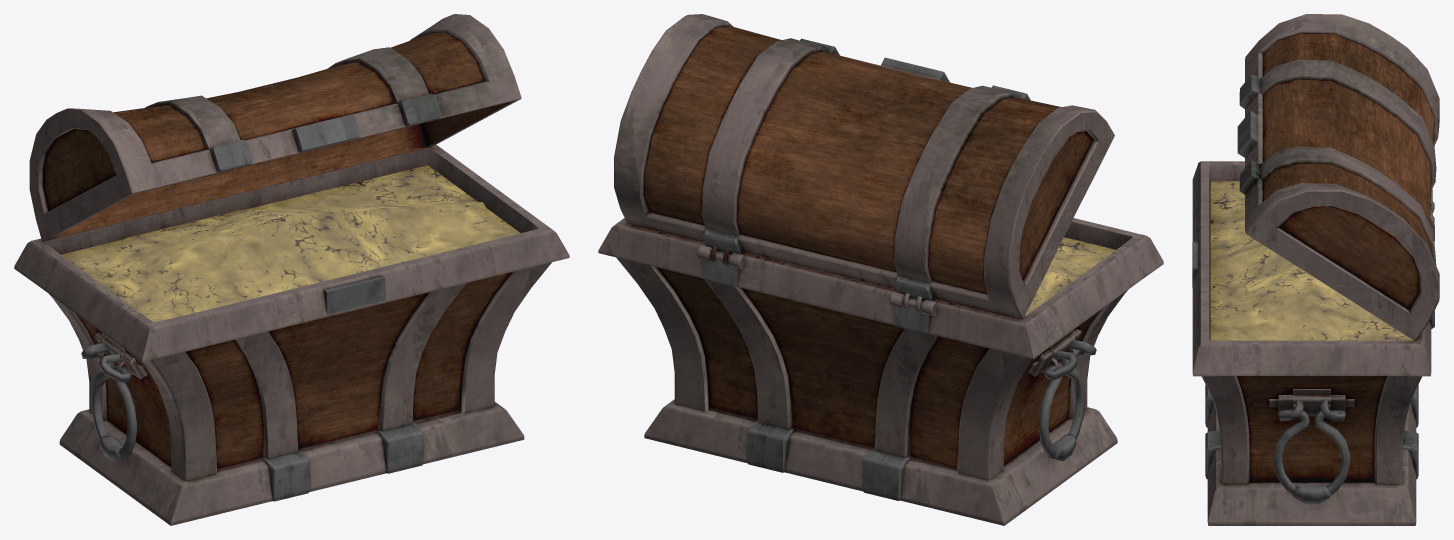
File: treasure_chest.glb
The picture shows the model from 3 angles, left to right: view 1: azimuth 30°, elevation 25°; view 2: azimuth 150°, elevation 25°; view 3: azimuth 270°, elevation 25°; orthographic projection. The views are drawn at different scales.
Visible parts, largest first — view 1: Chest_Gold1; view 2: Chest_Gold1; view 3: Chest_Gold1.
Boxes of the visible parts, x1,y1,x2,y2 form: Chest_Gold1: (14, 14, 569, 525); Chest_Gold1: (598, 14, 1163, 525); Chest_Gold1: (1192, 14, 1439, 525).
Size of the model in its own units: 0.9355 by 0.7712 by 0.5029.
1 material, 1 textured.
